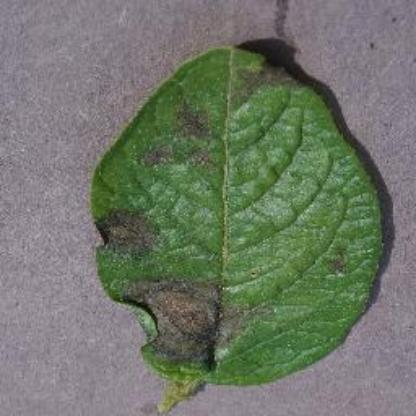Late-Blight: (61, 23, 415, 416)
